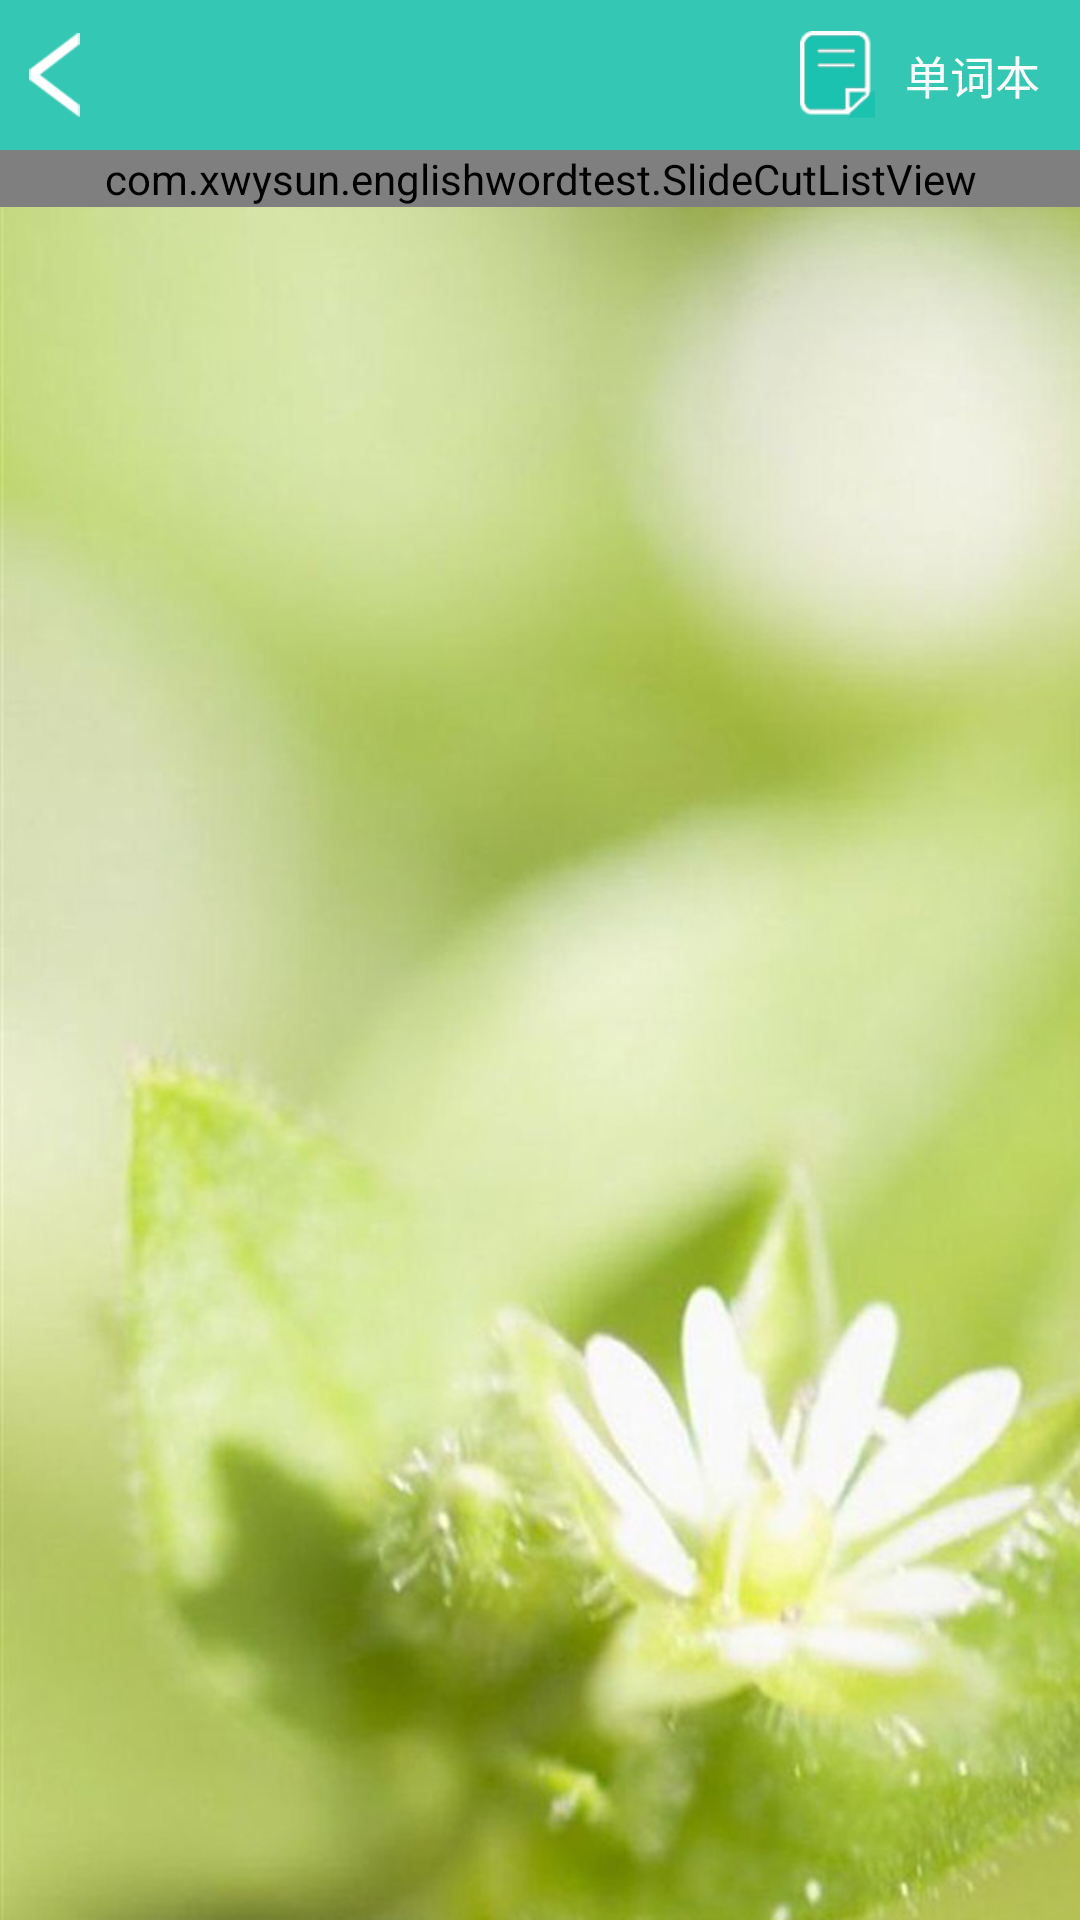

Icons on this 1080*1920 Android screen, each with the point to tap as (x,y):
back: (54,75)
book: (837,74)
